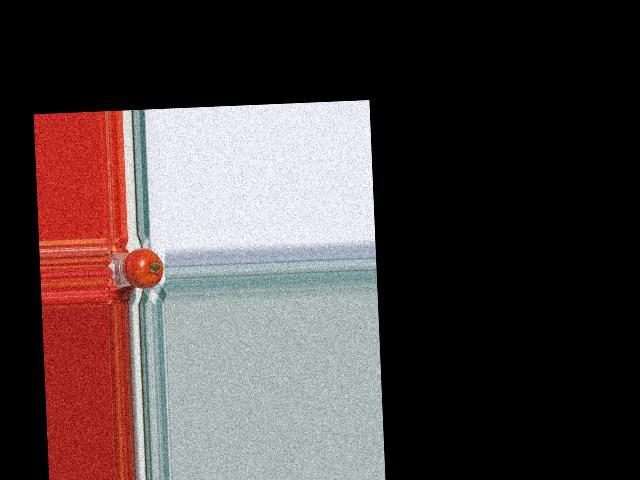tomato: (123, 246, 164, 289)
